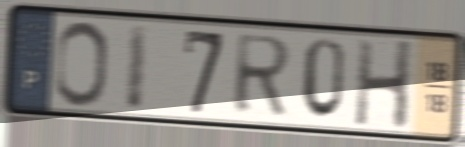0: (298, 36, 346, 123)
7: (182, 27, 227, 116)
H: (351, 38, 416, 133)
I: (123, 21, 151, 113)
O: (52, 18, 109, 109)
R: (231, 32, 295, 118)
